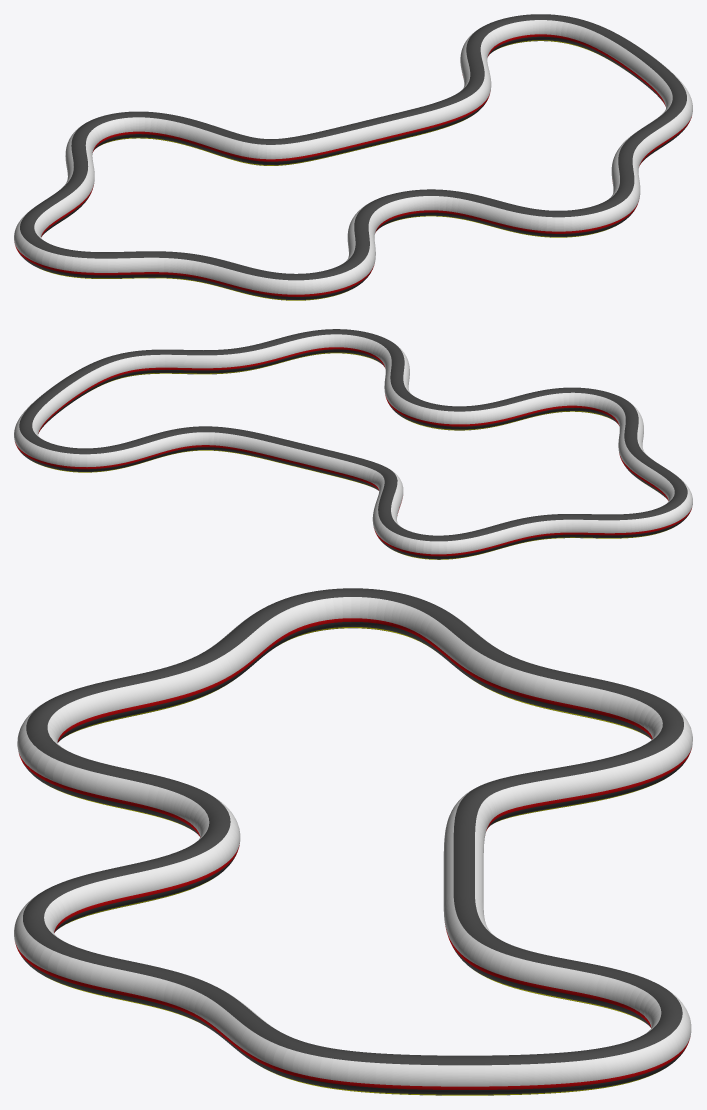
The model's file is Track #8.fbx.
The picture shows the model from 3 angles, top to bottom: view 1: azimuth 30°, elevation 25°; view 2: azimuth 150°, elevation 25°; view 3: azimuth 270°, elevation 25°; orthographic projection. The views are drawn at different scales.
Parts seen in each view (by area): view 1: Plane; view 2: Plane; view 3: Plane.
Part boxes in pixels (bbox=[...]): Plane: bbox=[14, 14, 692, 300]; Plane: bbox=[14, 329, 692, 559]; Plane: bbox=[14, 588, 692, 1095].
Bounding box in the file's own units: 5090 × 178 × 3016.
